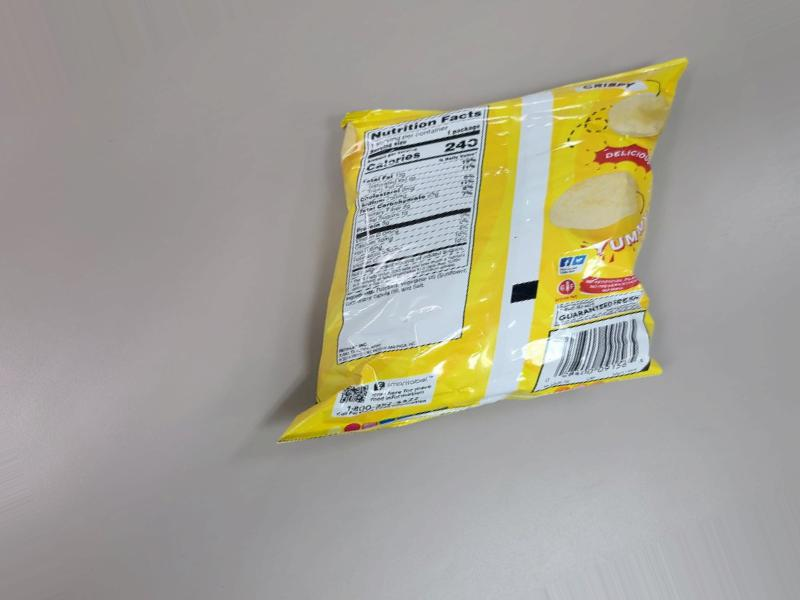lays: (366, 93, 749, 441)
